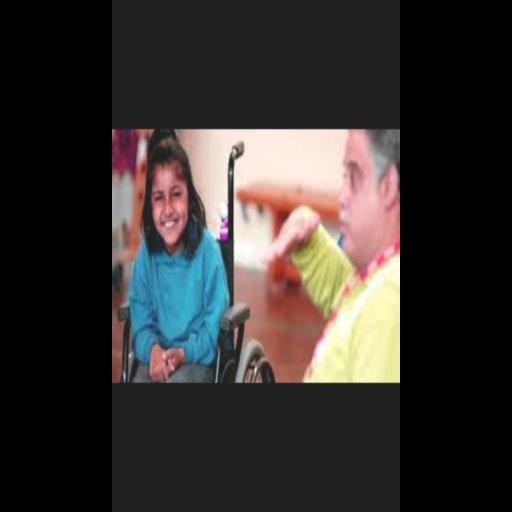cadeira_de_rodas: (122, 135, 280, 387)
